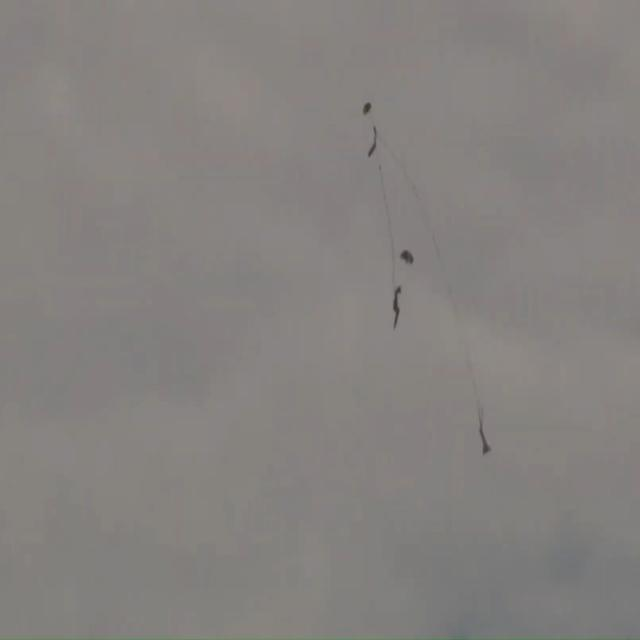Rocket: (480, 431, 491, 455)
